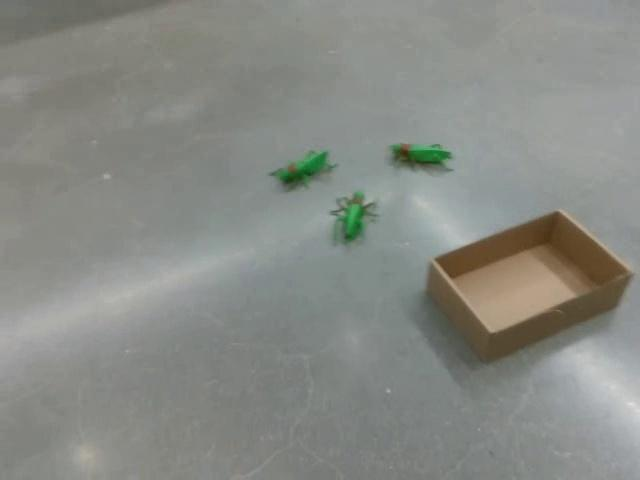box: (425, 207, 634, 363)
grasshopper: (268, 148, 337, 190), (329, 190, 378, 243), (388, 141, 453, 168)
